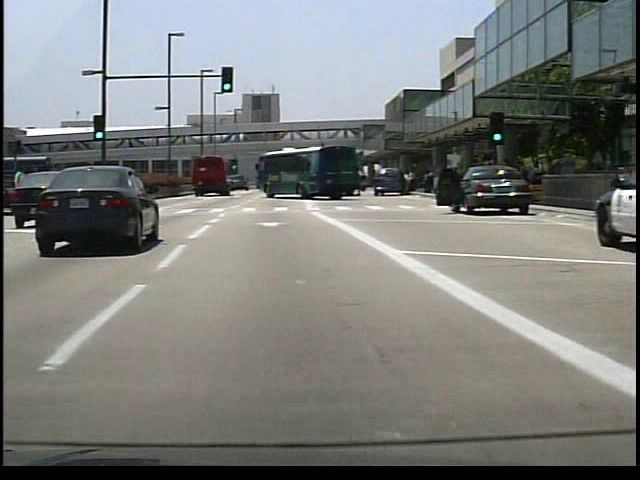person: (400, 168, 411, 195)
